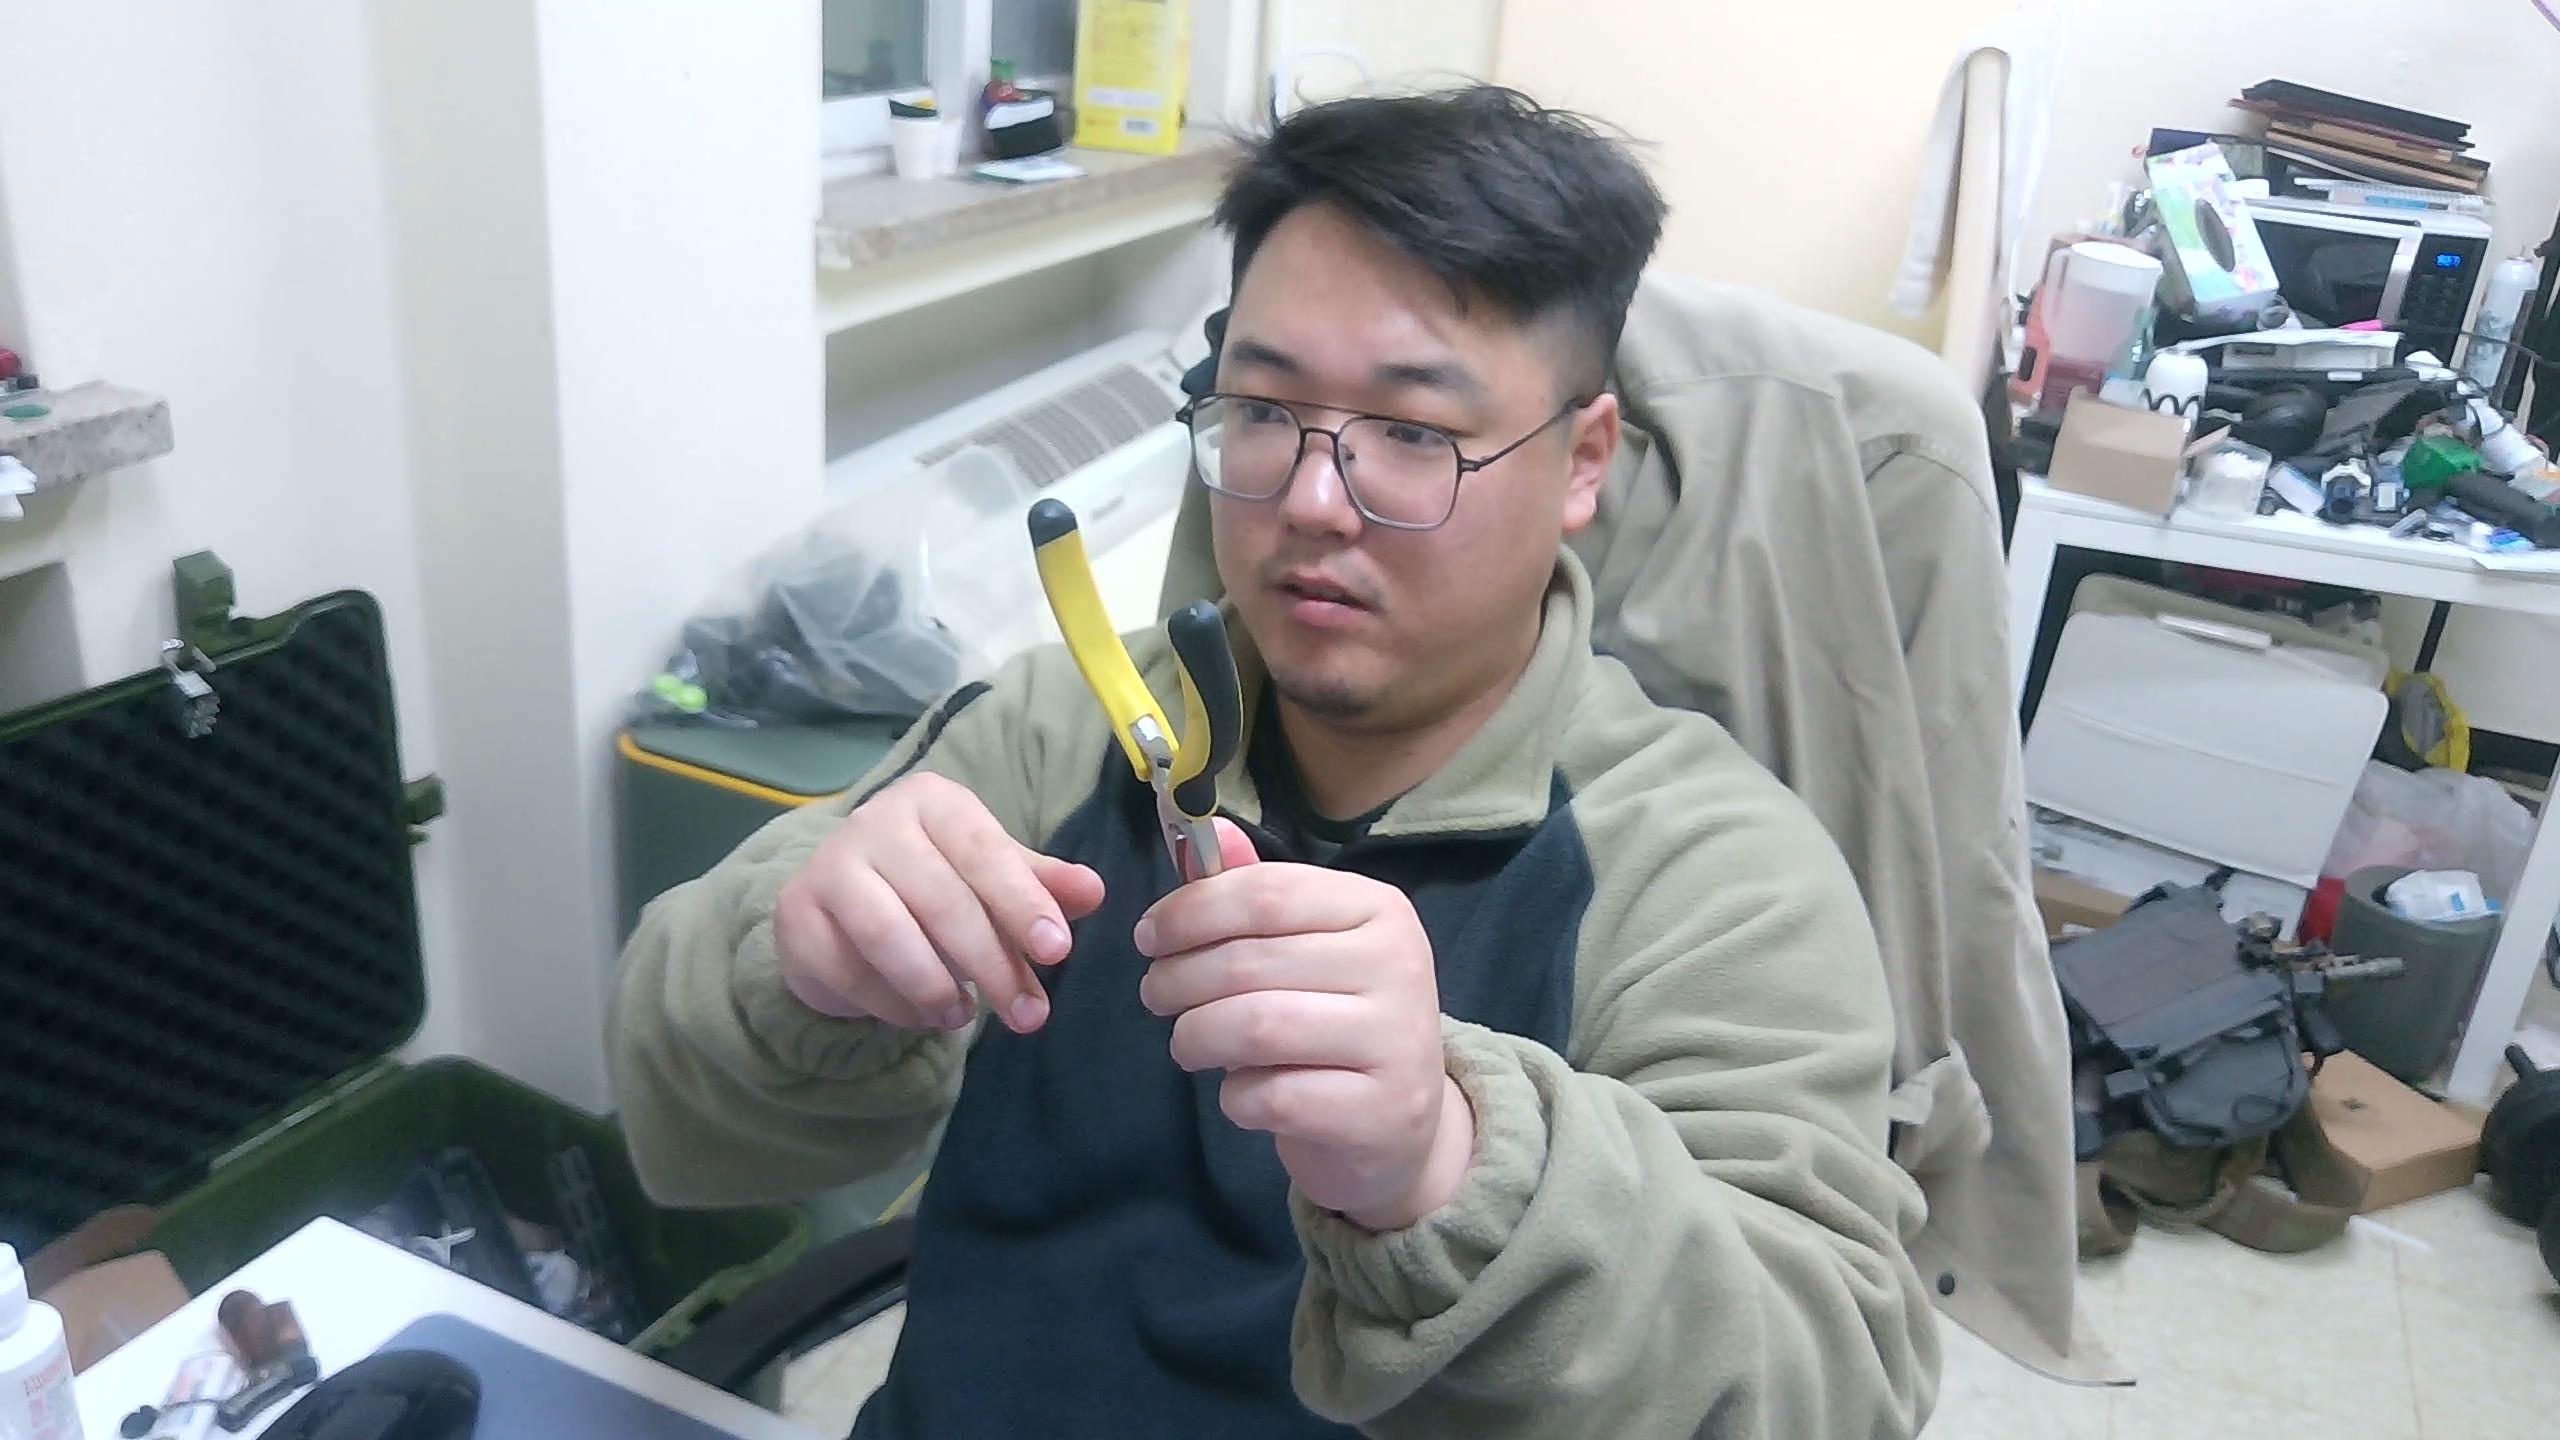earphone: (1025, 494, 1264, 890)
